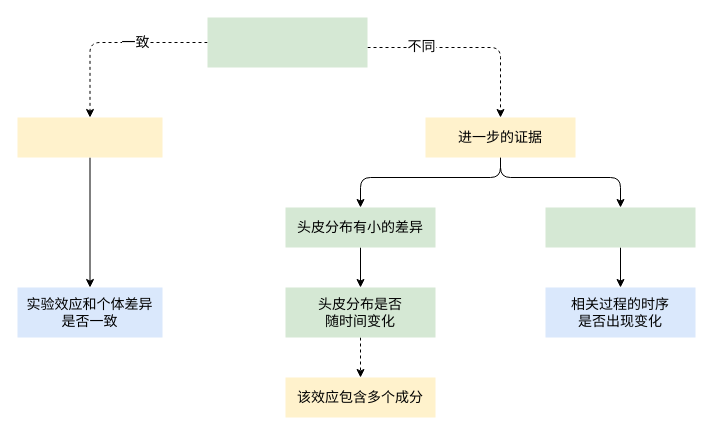
This 712x434 diagram has some shape labels left out. Each missing label, with the centre of its shape:
"可能是相同的成分" goes at [89,137].
"差异波特征 （潜伏期和头皮分布）" goes at [287,42].
"潜伏期差异较大" goes at [620,227].
